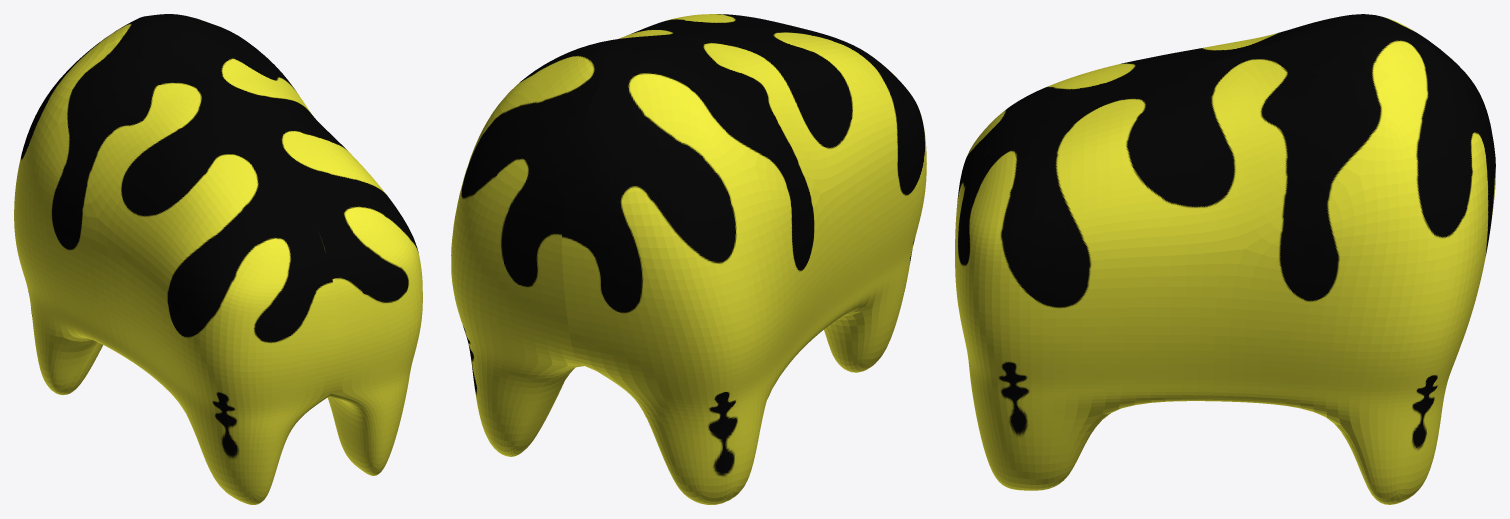
Rendered from tigerStatue.gltf.
3 renders of one model, left to right at view 1: azimuth 30°, elevation 25°; view 2: azimuth 150°, elevation 25°; view 3: azimuth 270°, elevation 25°, orthographic. The views are drawn at different scales.
Visible parts, largest first — view 1: 立方体; view 2: 立方体; view 3: 立方体.
Part boxes in pixels (<box>): 立方体: <box>14,14,422,504</box>; 立方体: <box>451,14,926,504</box>; 立方体: <box>955,14,1495,504</box>.
Size of the model in its own units: 0.8429 by 1.12 by 1.28.
1 material, 1 textured.
